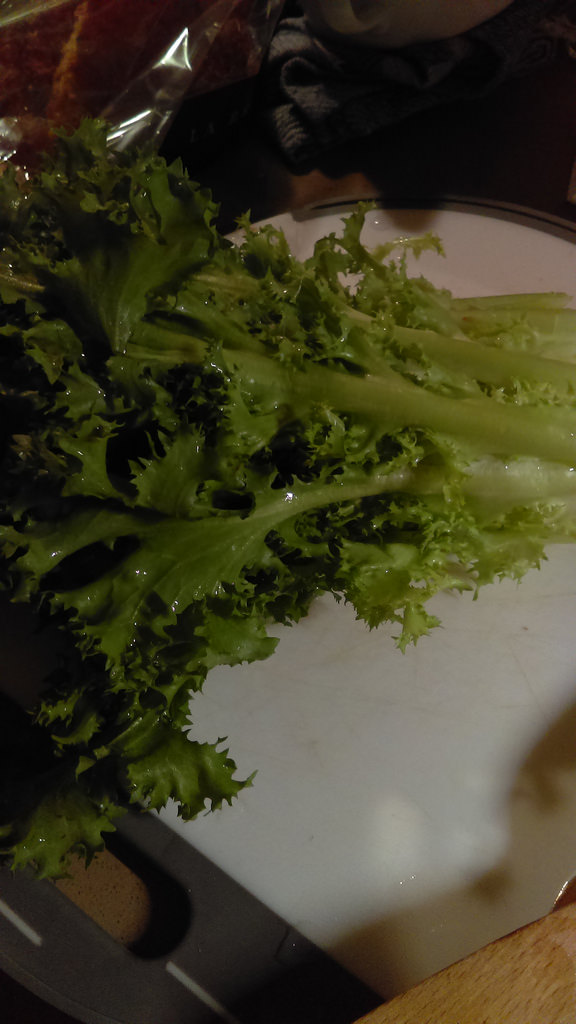chopped lettuce: (37, 197, 504, 579)
